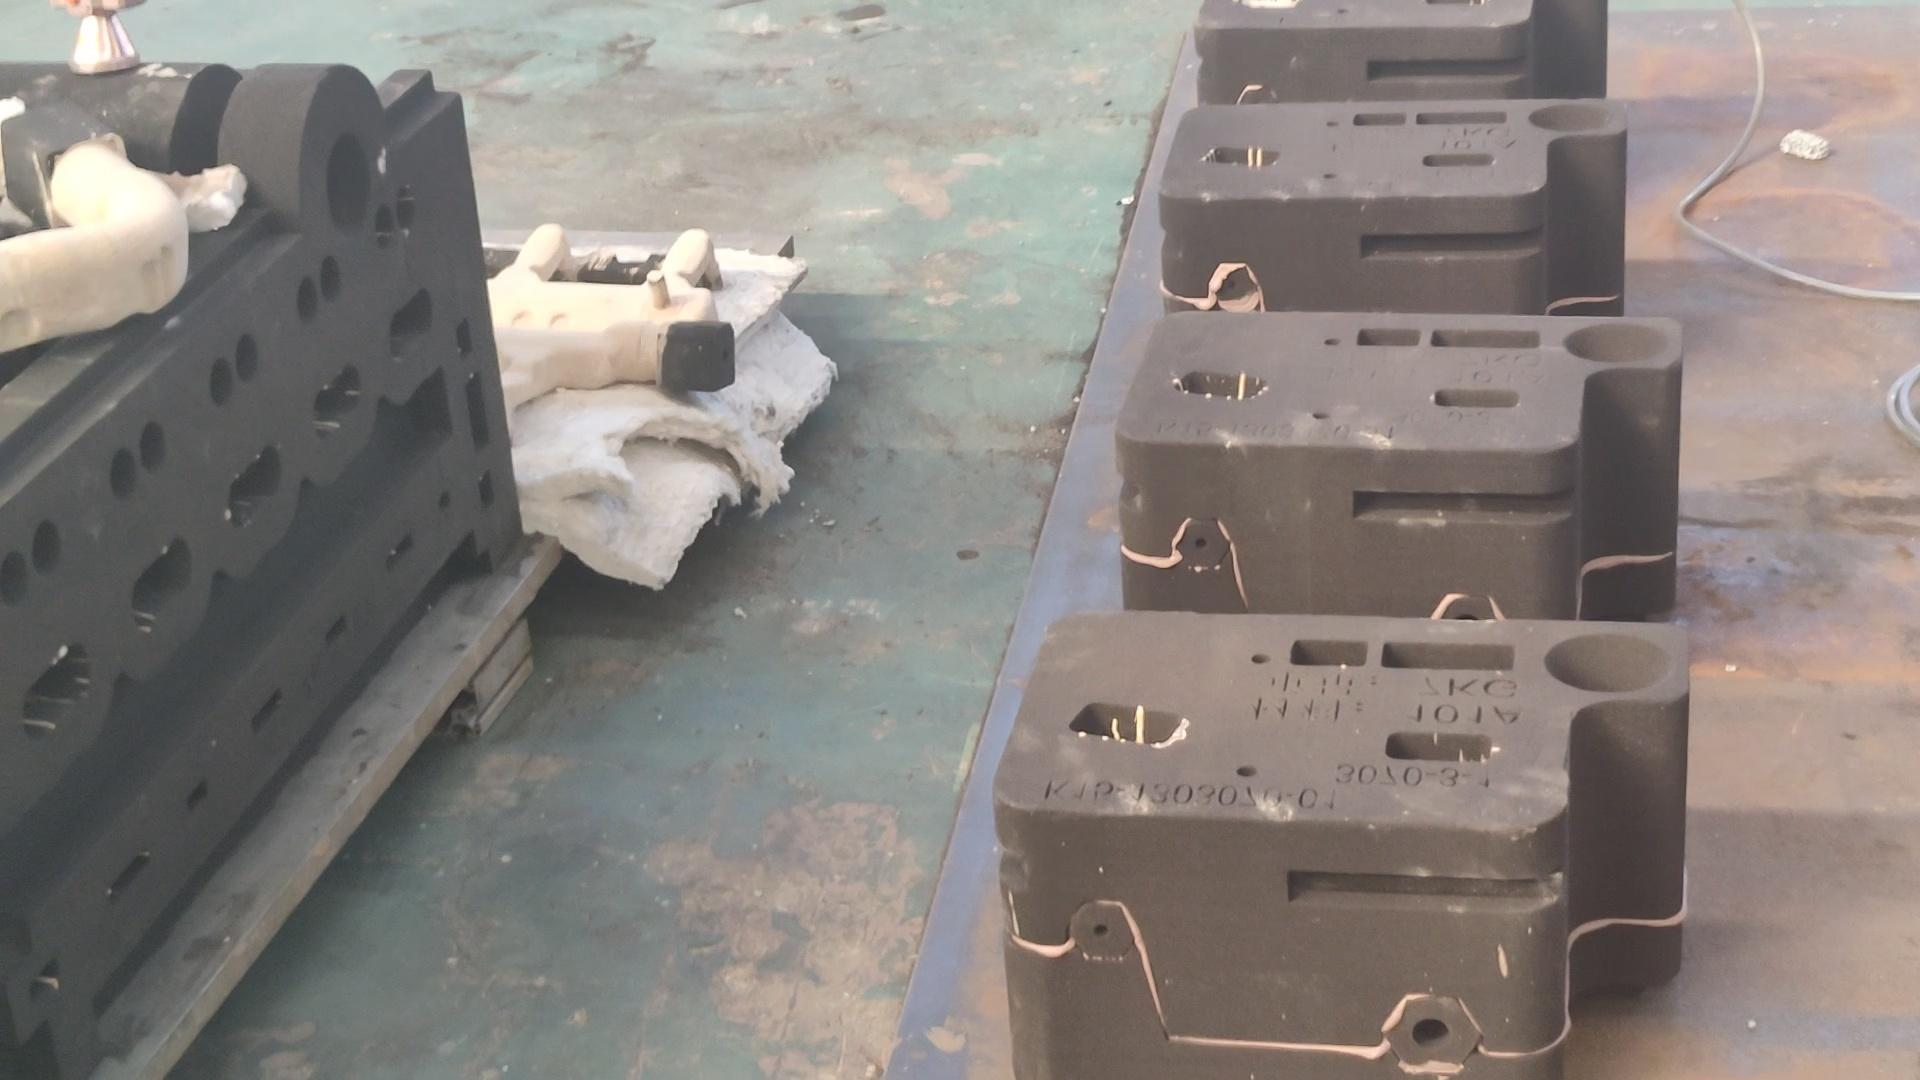pouring hole: (1543, 629, 1673, 691), (324, 129, 371, 235), (1563, 322, 1668, 365), (1526, 103, 1614, 133)
